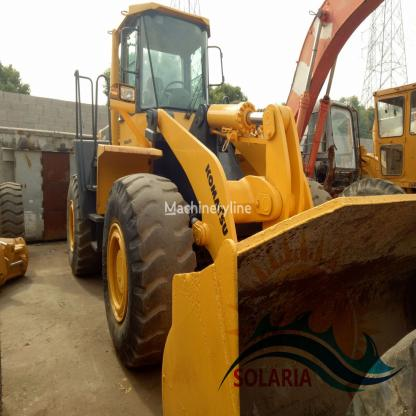bull_dozer/loader/grader: (56, 3, 416, 414)
